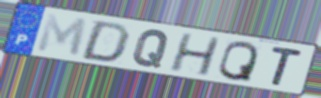D: (77, 19, 133, 64)
H: (167, 32, 223, 78)
M: (34, 12, 89, 59)
Q: (217, 40, 261, 83), (131, 28, 172, 70)
T: (268, 44, 305, 88)
